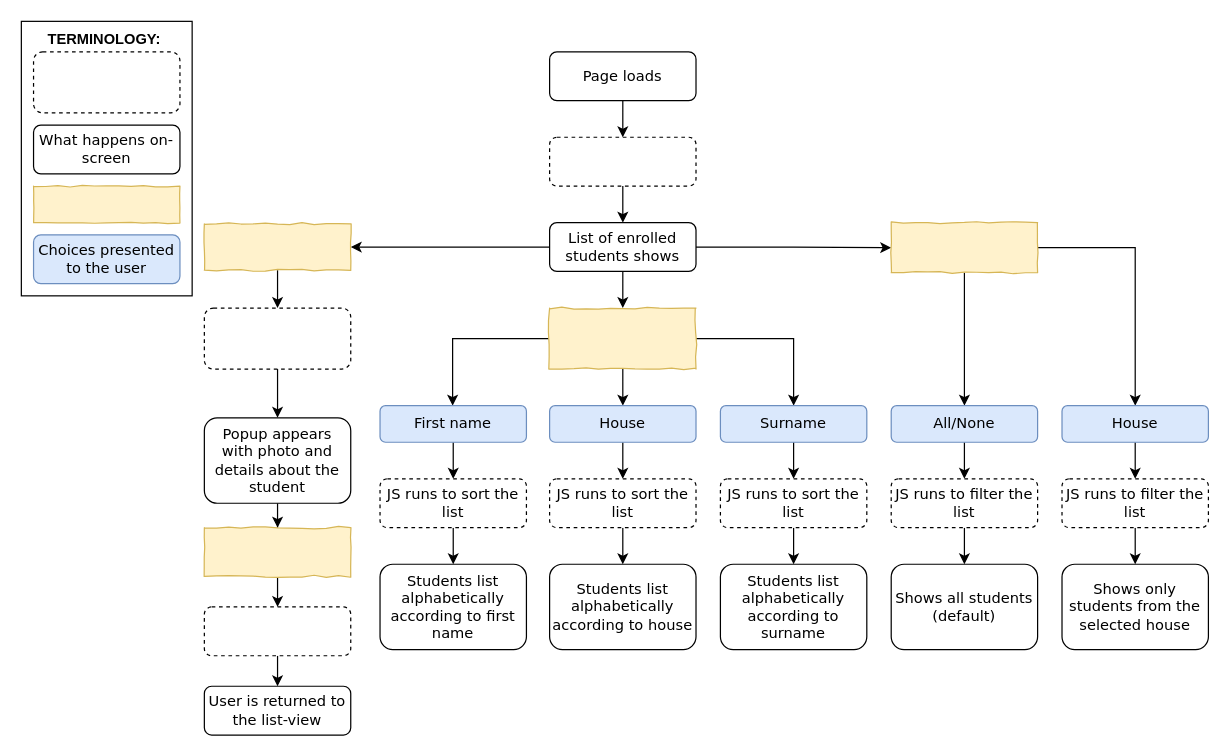
Image size: 1230x756. Some labels were removed from this diagram. Each missing label, with the centre of its shape:
Data loads from JSON: [622,161]
Elements processing in the background: [106,82]
JS runs to close the popup: [277,631]
JS runs to create popup + load text and photo: [277,338]
User actions: [106,204]
User can click name of student: [277,246]
User can filter the students by either: [964,247]
User can sort the students by either: [622,338]
User clicks the popup: [277,551]
